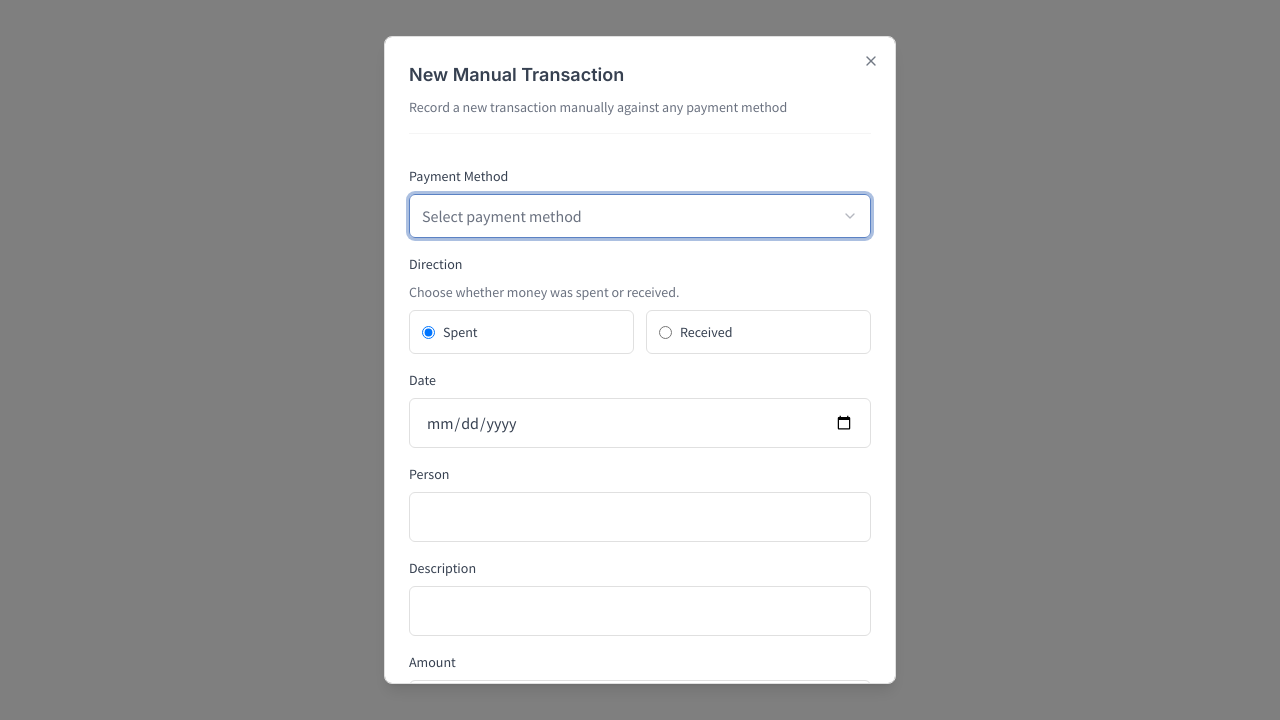
Scenario: CreateManualTransactionModal › Payment Method Selection › payment methods are loaded and displayed
The width and height of the screenshot is (1280, 720).
Click the dropdown at point(502, 216), box [409,194,871,238]
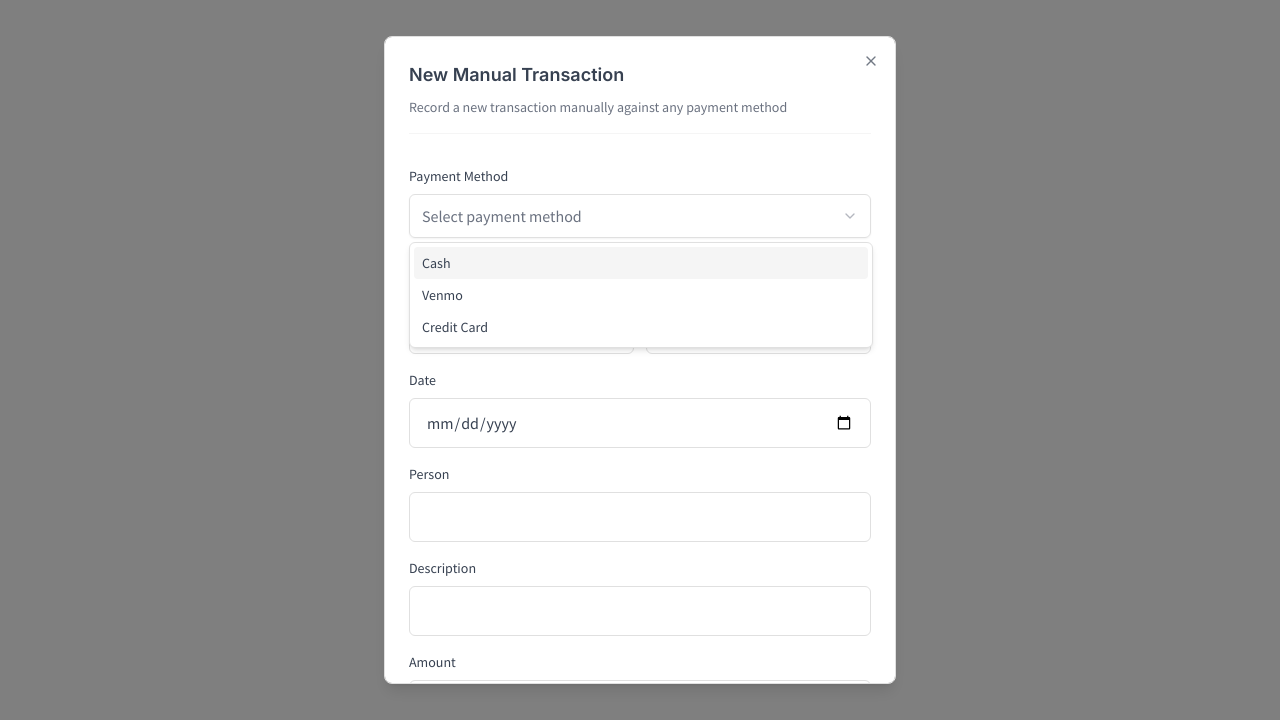
Expected: the option "Cash" is shown, [414,247,868,279]
Expected: the option "Venmo" is shown, [422,286,463,304]
Expected: the option "Credit Card" is shown, [422,318,488,336]
